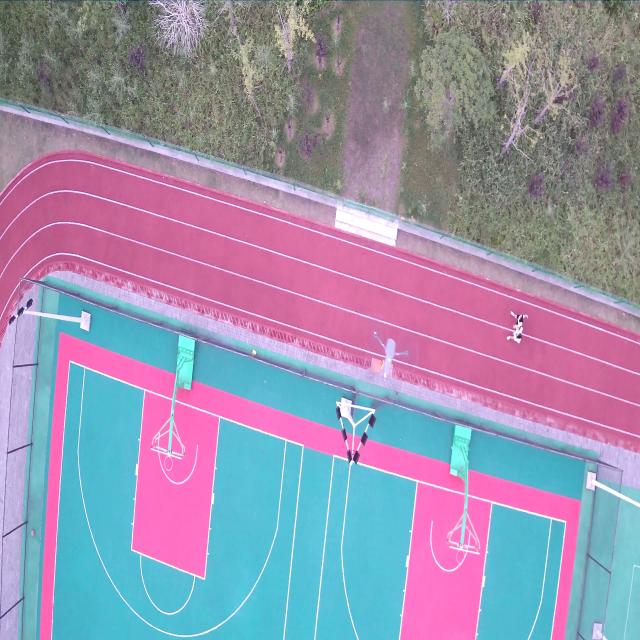UAV: (366, 330, 409, 398)
